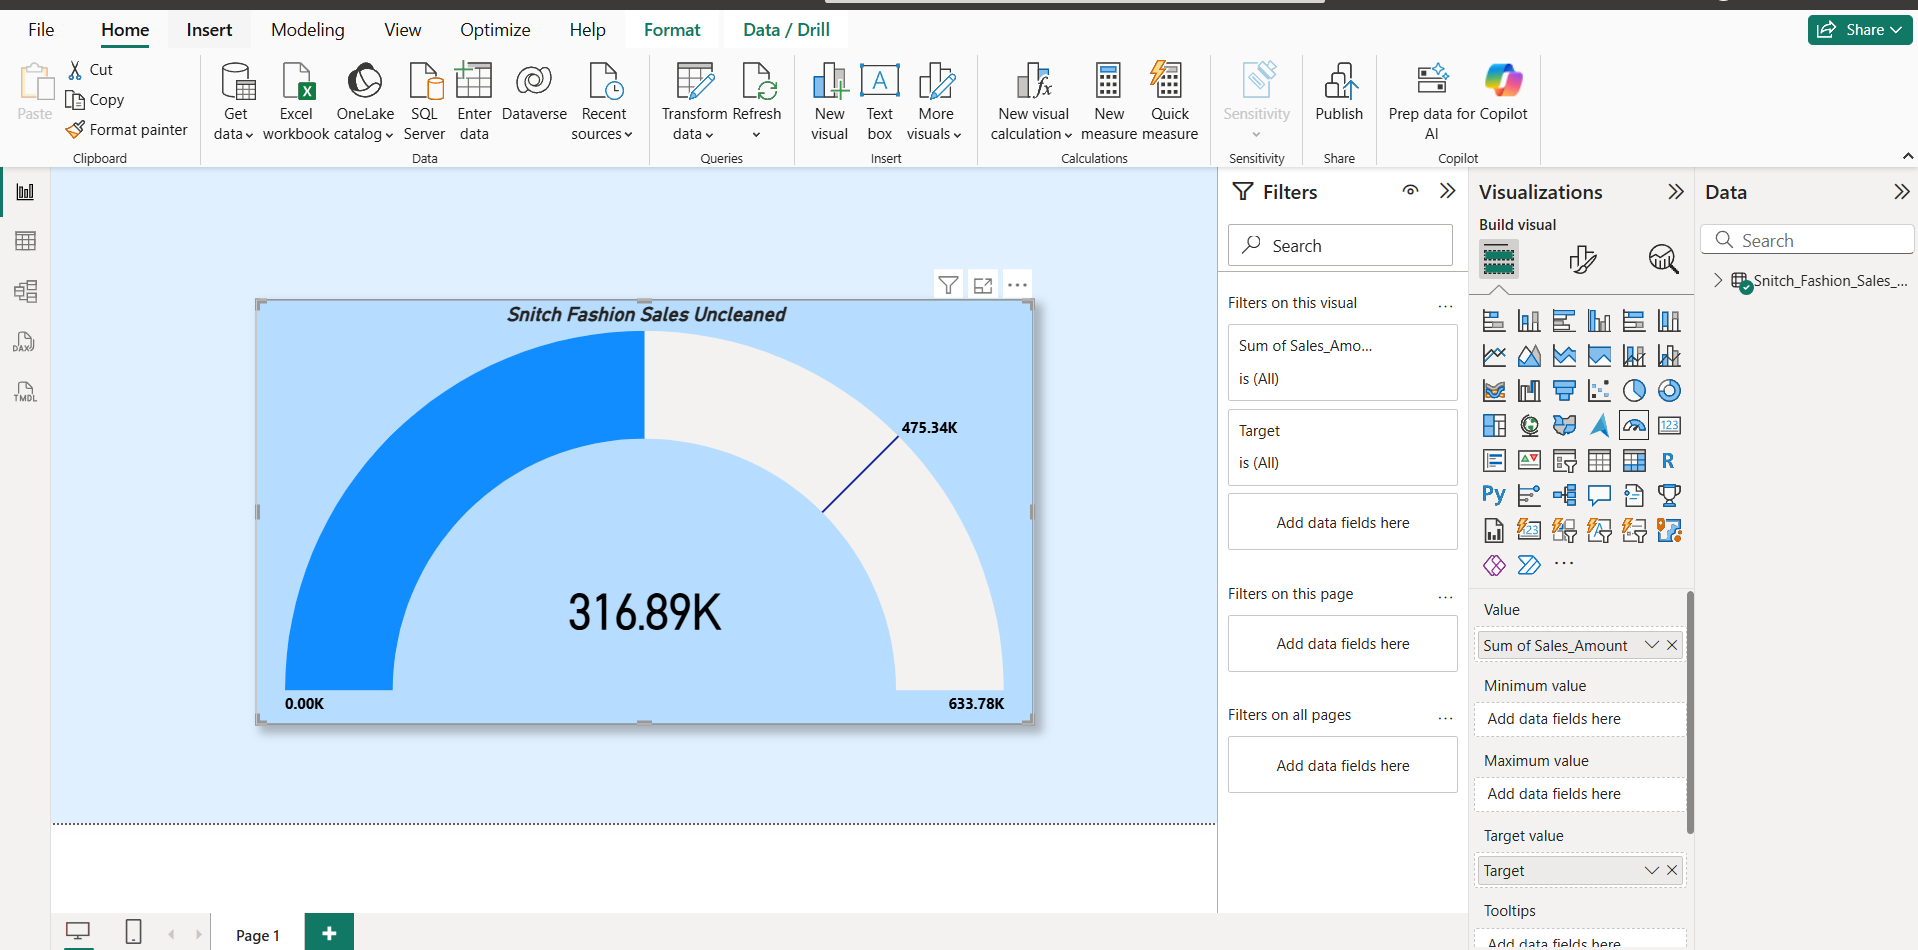

The dashboard page shown, as its layout file describes it:
{"tool":"powerbi","page":{"name":"Page 1","canvas":[1280,720],"ordinal":0},"visuals":[{"type":"gauge","title":"Snitch Fashion Sales Uncleaned","fields":{"TargetValue":["Snitch_Fashion_Sales_Uncleaned.Target"],"Y":["Sum(Snitch_Fashion_Sales_Uncleaned.Sales_Amount)"]},"box":[225,145.5,853.5,466.6],"z":0}]}

Visuals, with their boxes on the page's 1280x720 design canvas (x1, y1, x2, y2). These are canvas units, not pixel positions in the 1918x950 screenshot, which may show the page scaled, cropped or inside an application window:
"Snitch Fashion Sales Uncleaned" gauge: bbox(225, 146, 1078, 612)
